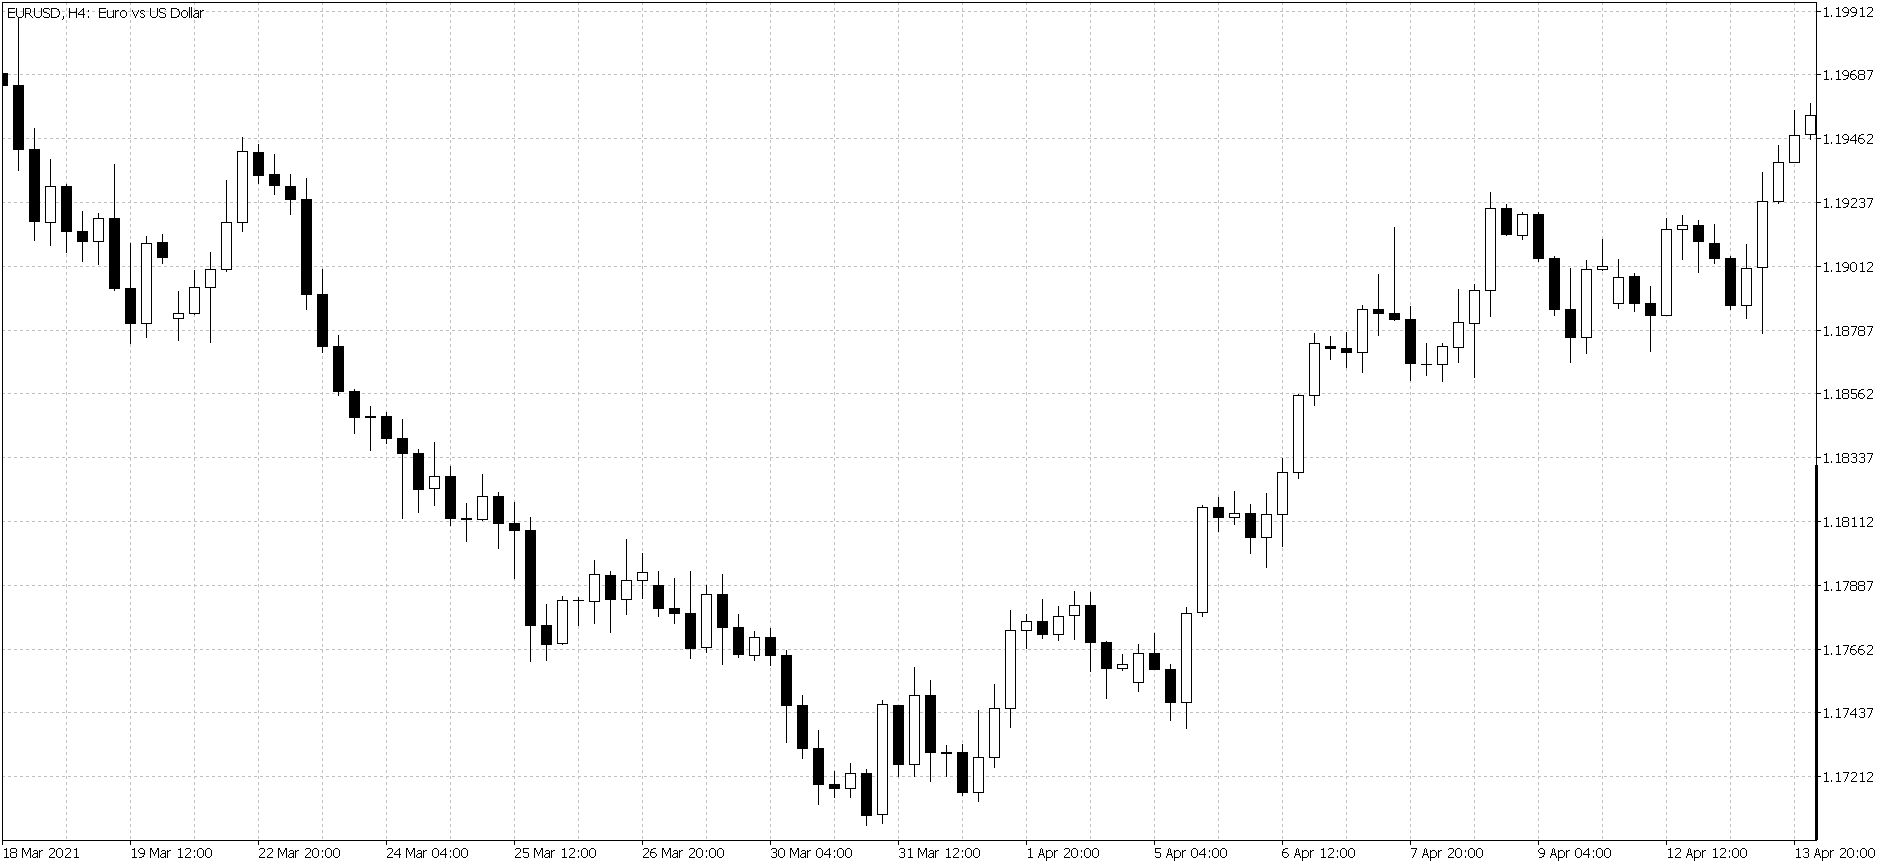3blackcrows: (300, 155, 347, 413), (779, 640, 826, 813)
3whitesoldiers: (1276, 330, 1321, 542)
bearishEngulfing: (1515, 203, 1547, 270)
morningDojiStar: (443, 456, 490, 554), (1402, 299, 1451, 390)
morningStar: (155, 221, 204, 348)
shootingStar: (1385, 219, 1402, 325)
